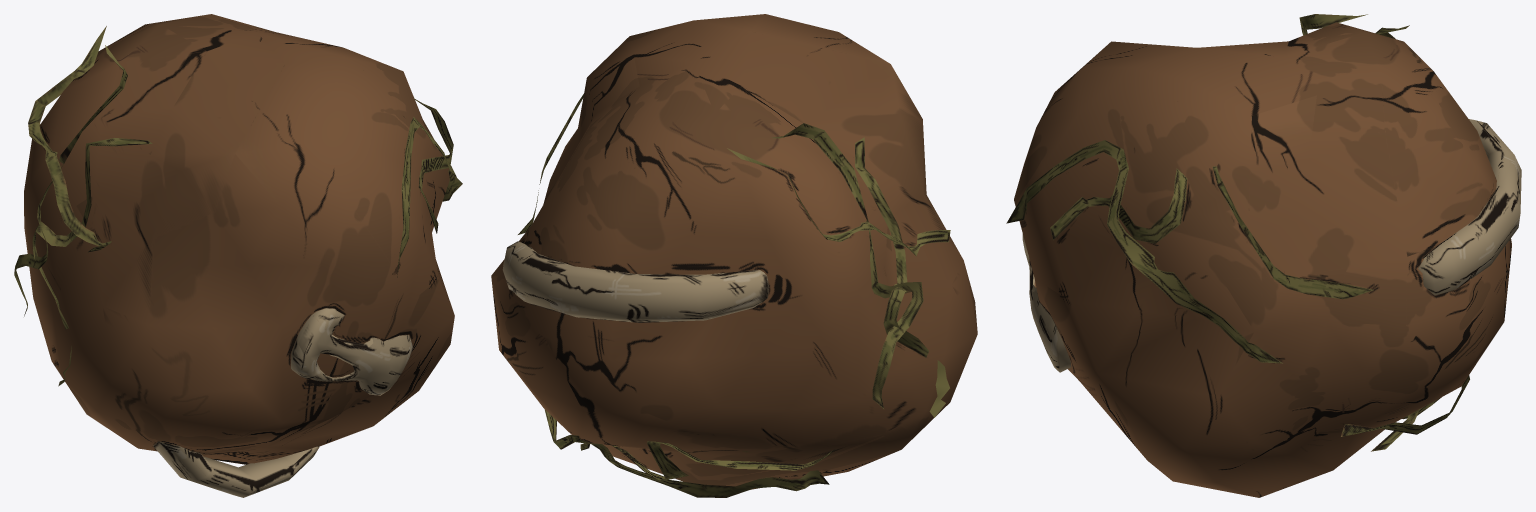
The model's file is asteroid_ocean.gltf.
3 renders of one model, left to right at view 1: azimuth 30°, elevation 25°; view 2: azimuth 150°, elevation 25°; view 3: azimuth 270°, elevation 25°, orthographic. The views are drawn at different scales.
Visible parts, largest first — view 1: asteroid_ocean; view 2: asteroid_ocean; view 3: asteroid_ocean.
Boxes of the visible parts, left/top/right/bottom form: asteroid_ocean: left=14, top=14, right=462, bottom=497; asteroid_ocean: left=491, top=14, right=977, bottom=497; asteroid_ocean: left=1006, top=14, right=1521, bottom=497.
Bounding box in the file's own units: 1.59 × 1.67 × 1.81.
Materials: 1 (1 with a texture image).
